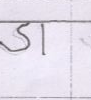aa_matra: (42, 24, 45, 55)
